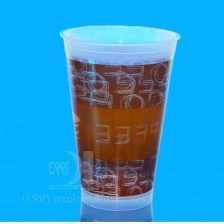glass: (54, 19, 185, 215)
